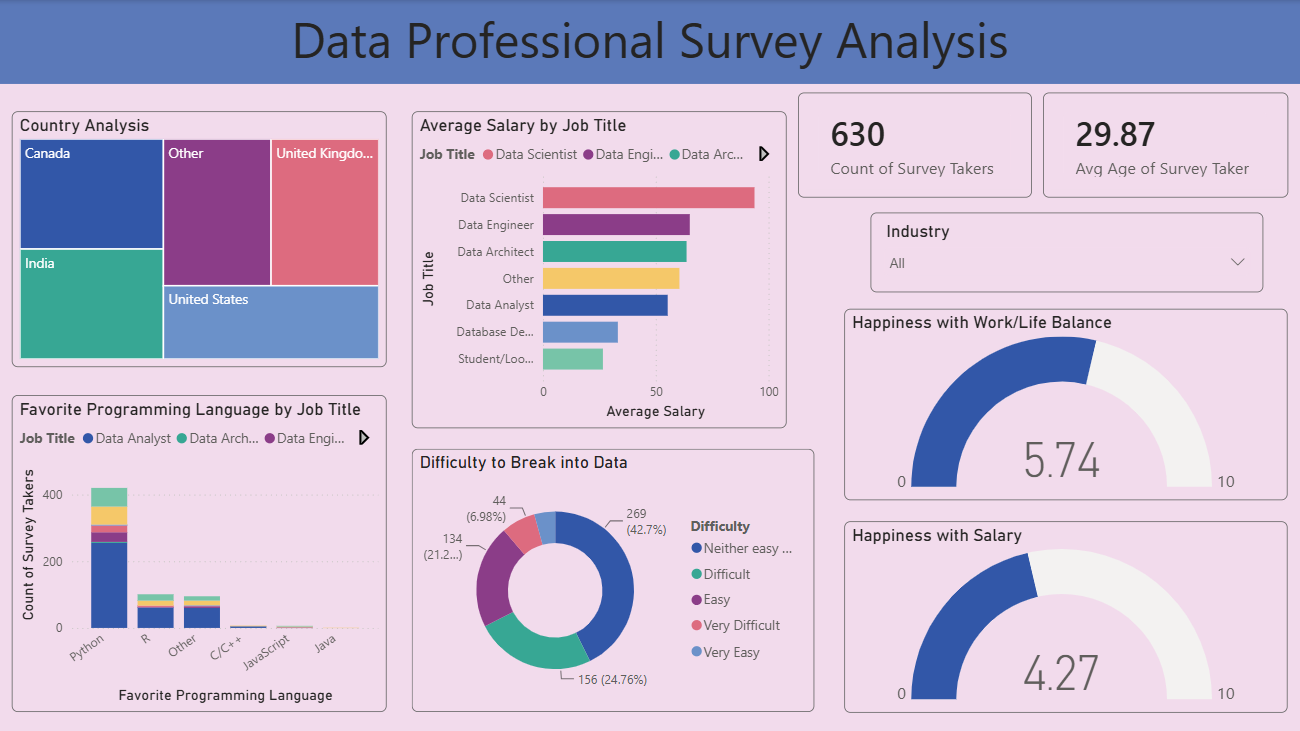

The page's visual inventory and layout, read from the dashboard file:
{"tool":"powerbi","page":{"name":"Detailed Analysis","canvas":[1280,720],"ordinal":0},"visuals":[{"type":"textbox","box":[0,0,1280,82.1],"z":0},{"type":"cardVisual","fields":{"Data":["Data Professional Survey.Count of Survey Takers"]},"box":[785.3,90.8,229.4,103.1],"z":1000},{"type":"cardVisual","fields":{"Data":["Data Professional Survey.Average Age of Survey Taker"]},"box":[1025.8,90.8,240.5,103.1],"z":2000},{"type":"barChart","title":"Average Salary by Job Title","fields":{"Category":["Data Professional Survey.Q1 - Which Title Best Fits your Current Role?.1"],"Y":["Avg(Data Professional Survey.Average Salary)"],"Series":["Data Professional Survey.Q1 - Which Title Best Fits your Current Role?.1"]},"box":[406.1,109.2,368.2,311],"z":3000},{"type":"columnChart","title":"Favorite Programming Language by Job Title","fields":{"Category":["Data Professional Survey.Q5 - Favorite Programming Language.1"],"Y":["CountNonNull(Data Professional Survey.Unique ID)"],"Series":["Data Professional Survey.Q1 - Which Title Best Fits your Current Role?.1"]},"box":[13.7,388.1,368.2,311],"z":4000},{"type":"treemap","title":"Country Analysis","fields":{"Group":["Data Professional Survey.Q11 - Which Country do you live in?.1"],"Values":["Count(Data Professional Survey.Q11 - Which Country do you live in?.1)"]},"box":[13.7,109.5,368.2,251.3],"z":5000},{"type":"gauge","title":"Happiness with Work/Life Balance","fields":{"Y":["Avg(Data Professional Survey.Q6 - How Happy are you in your Current Position with the following? (Work/Life Balance))"],"MinValue":["Min(Data Professional Survey.Q6 - How Happy are you in your Current Position with the following? (Work/Life Balance))1"],"MaxValue":["Max(Data Professional Survey.Q6 - How Happy are you in your Current Position with the following? (Work/Life Balance))2"]},"box":[831,303.5,435.4,187.8],"z":6000},{"type":"gauge","title":"Happiness with Salary","fields":{"Y":["Avg(Data Professional Survey.Q6 - How Happy are you in your Current Position with the following? (Salary))"],"MinValue":["Min(Data Professional Survey.Q6 - How Happy are you in your Current Position with the following? (Salary))1"],"MaxValue":["Max(Data Professional Survey.Q6 - How Happy are you in your Current Position with the following? (Salary))2"]},"box":[831,511.3,435.4,187.8],"z":7000},{"type":"donutChart","title":"Difficulty to Break into Data","fields":{"Category":["Data Professional Survey.Q7 - How difficult was it for you to break into Data?"],"Y":["CountNonNull(Data Professional Survey.Q7 - How difficult was it for you to break into Data?)"]},"box":[405.5,440.4,395.6,258.7],"z":8000},{"type":"slicer","fields":{"Values":["Data Professional Survey.Q4 - What Industry do you work in?.1"]},"box":[855.8,209,385.6,78.4],"z":9000}]}

Visuals, with their boxes in screenshot pixels (x1, y1, x2, y2), scaled from the page's 1280x720 canvas onto the 1300x731 screenshot:
textbox: bbox=(0, 0, 1299, 83)
cardVisual - Data Professional Survey.Count of Survey Takers: bbox=(798, 92, 1031, 197)
cardVisual - Data Professional Survey.Average Age of Survey Taker: bbox=(1042, 92, 1286, 197)
"Average Salary by Job Title" barChart: bbox=(412, 111, 786, 427)
"Favorite Programming Language by Job Title" columnChart: bbox=(14, 394, 388, 710)
"Country Analysis" treemap: bbox=(14, 111, 388, 366)
"Happiness with Work/Life Balance" gauge: bbox=(844, 308, 1286, 499)
"Happiness with Salary" gauge: bbox=(844, 519, 1286, 710)
"Difficulty to Break into Data" donutChart: bbox=(412, 447, 814, 710)
slicer - Data Professional Survey.Q4 - What Industry do you work in?.1: bbox=(869, 212, 1261, 292)
